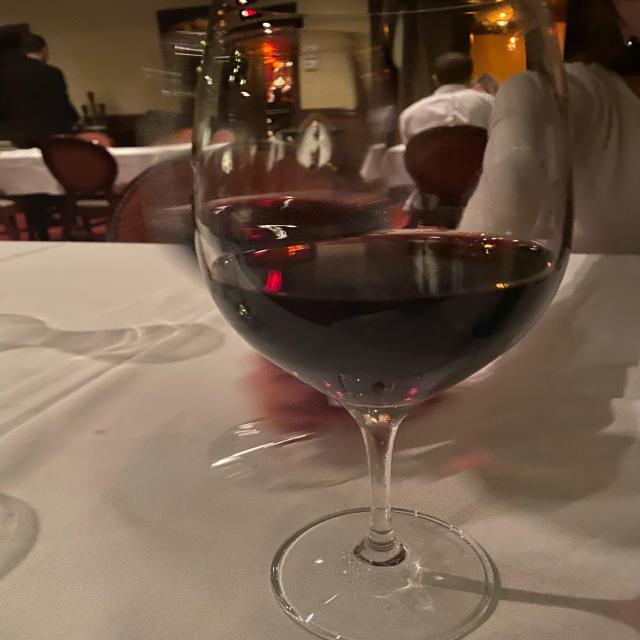glass-wine: (193, 0, 581, 640)
